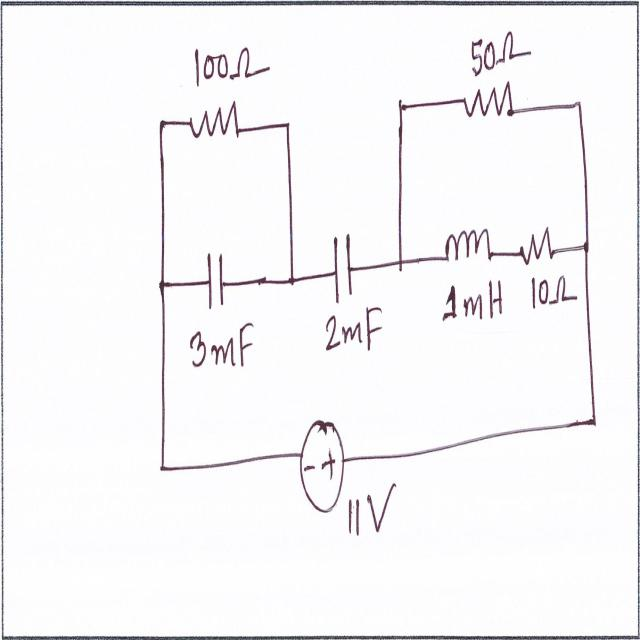capacitor: (327, 227, 359, 311), (206, 245, 227, 314)
inductor: (443, 218, 493, 272)
resistor: (516, 210, 562, 276), (458, 76, 516, 126), (186, 96, 246, 144)
voltage_source: (296, 389, 348, 512)
